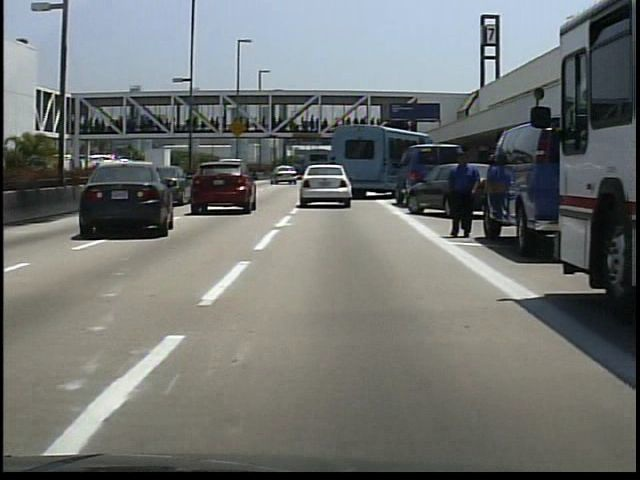person: (442, 148, 489, 244)
